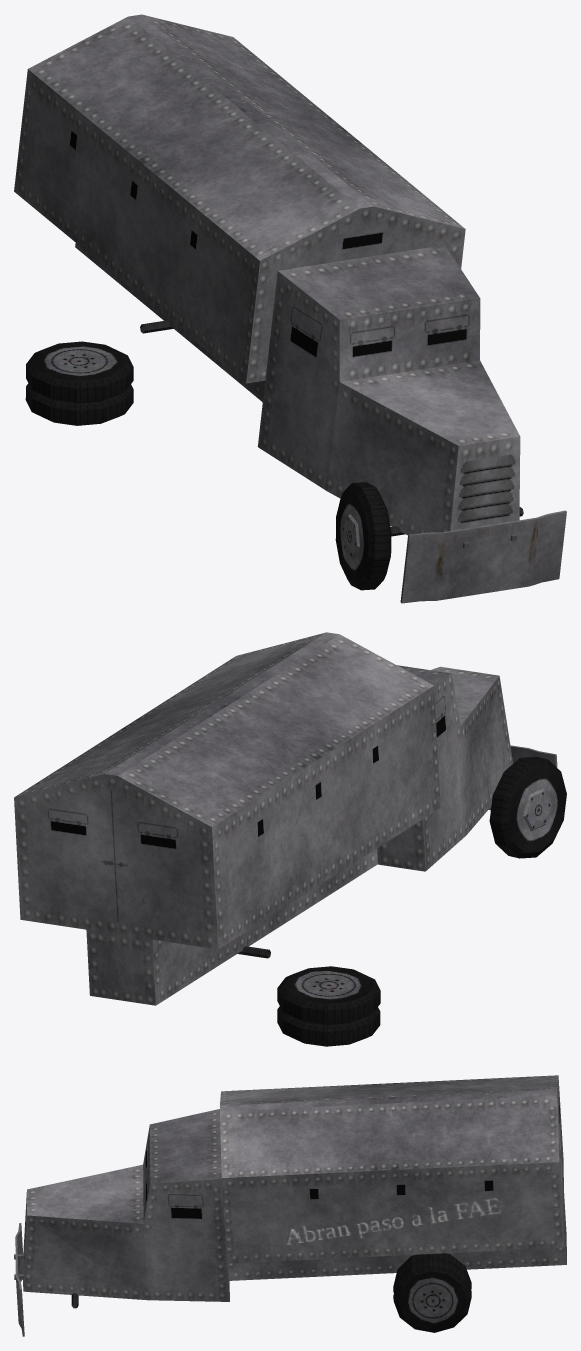
The model's file is ESRTiznao_Destroyed.dae.
3 renders of one model, top to bottom at view 1: azimuth 30°, elevation 25°; view 2: azimuth 150°, elevation 25°; view 3: azimuth 270°, elevation 25°, orthographic. The views are drawn at different scales.
Visible parts, largest first — view 1: base, wheels2, wheels1; view 2: base, wheels2, wheels1; view 3: base, wheels2.
Boxes of the visible parts, x1,y1,x2,y2 form: base: (14, 14, 566, 603); wheels2: (25, 320, 173, 425); wheels1: (335, 482, 523, 590); base: (14, 632, 557, 1005); wheels2: (237, 946, 380, 1046); wheels1: (489, 757, 566, 858); base: (14, 1075, 566, 1336); wheels2: (393, 1253, 471, 1332).
Size of the model in its own units: 23.96 by 54.82 by 24.55.
